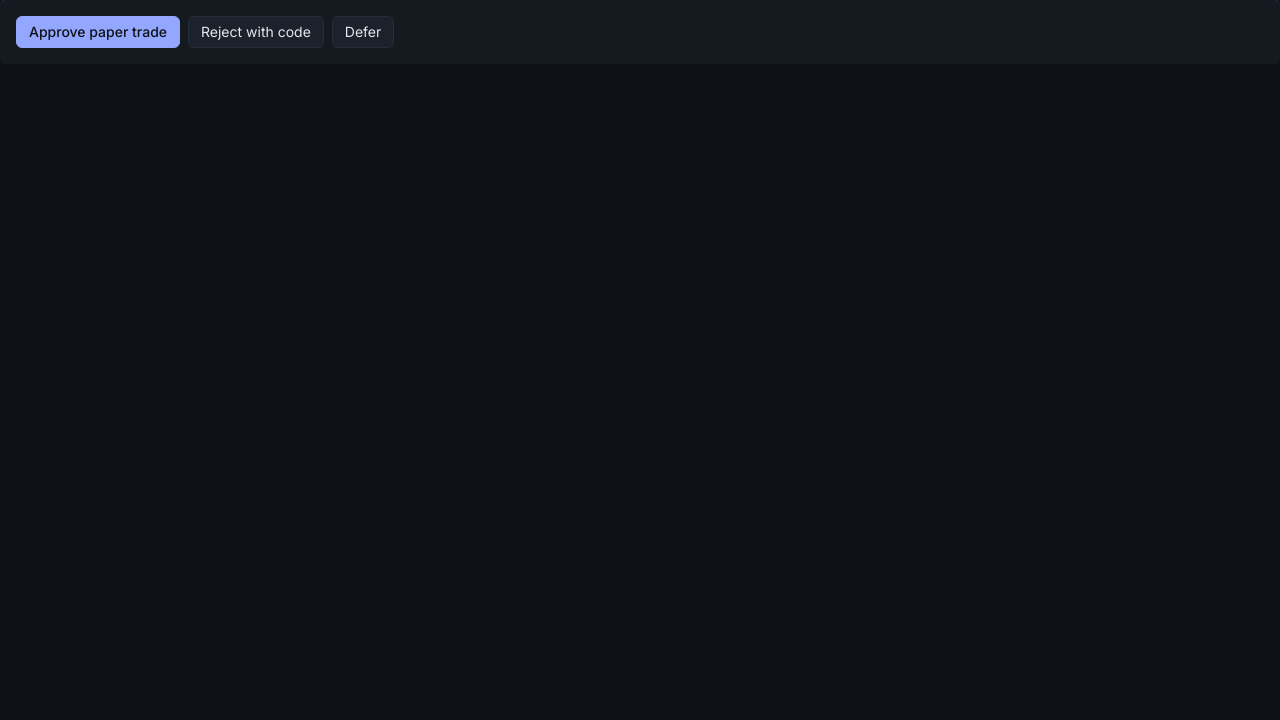
Test: defer › confirms, then posts and keeps the brief pending
Later steps or results of the test are not shown.
Click the button "Defer": {"x": 363, "y": 32} [332, 16, 394, 48]
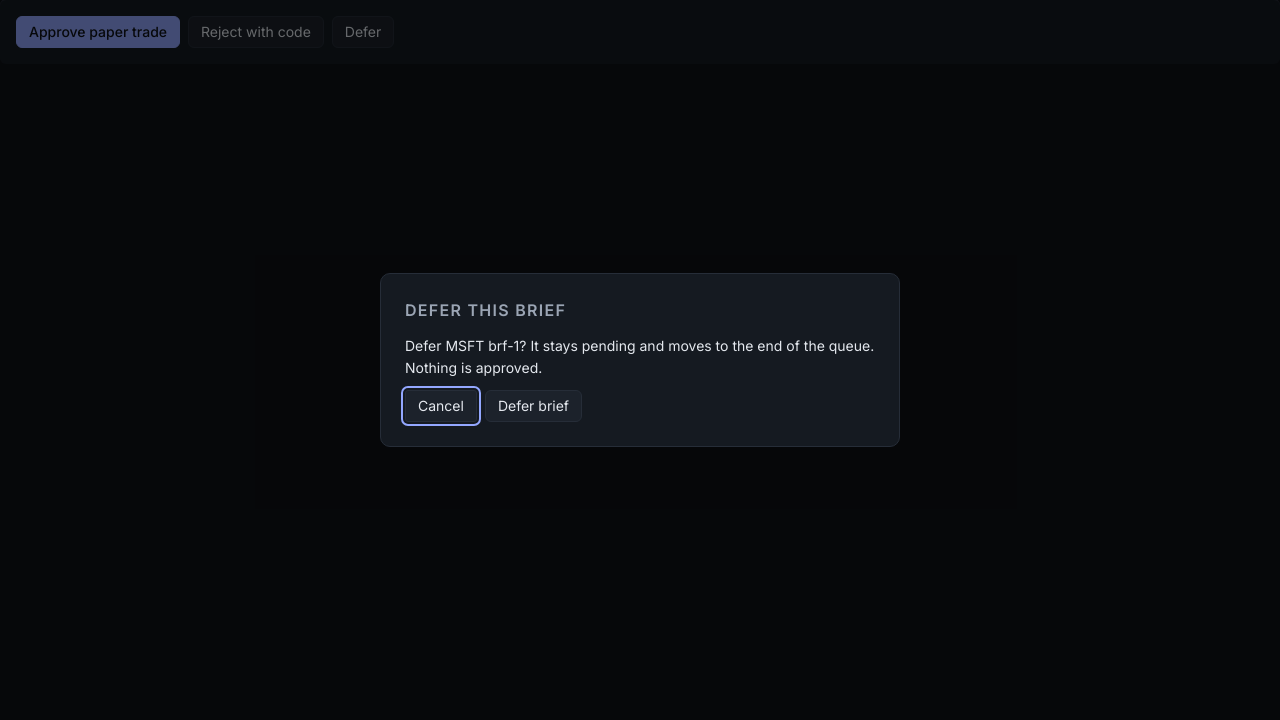
Now the dialog shows "stays pending", box [405, 337, 874, 376]
